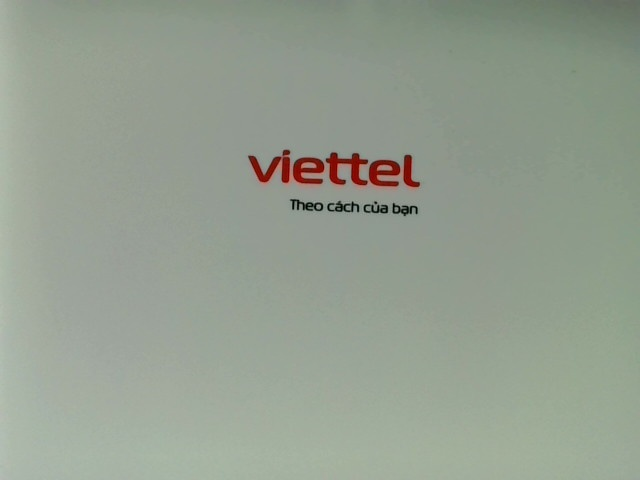AY_Viettel: (244, 142, 429, 219)
